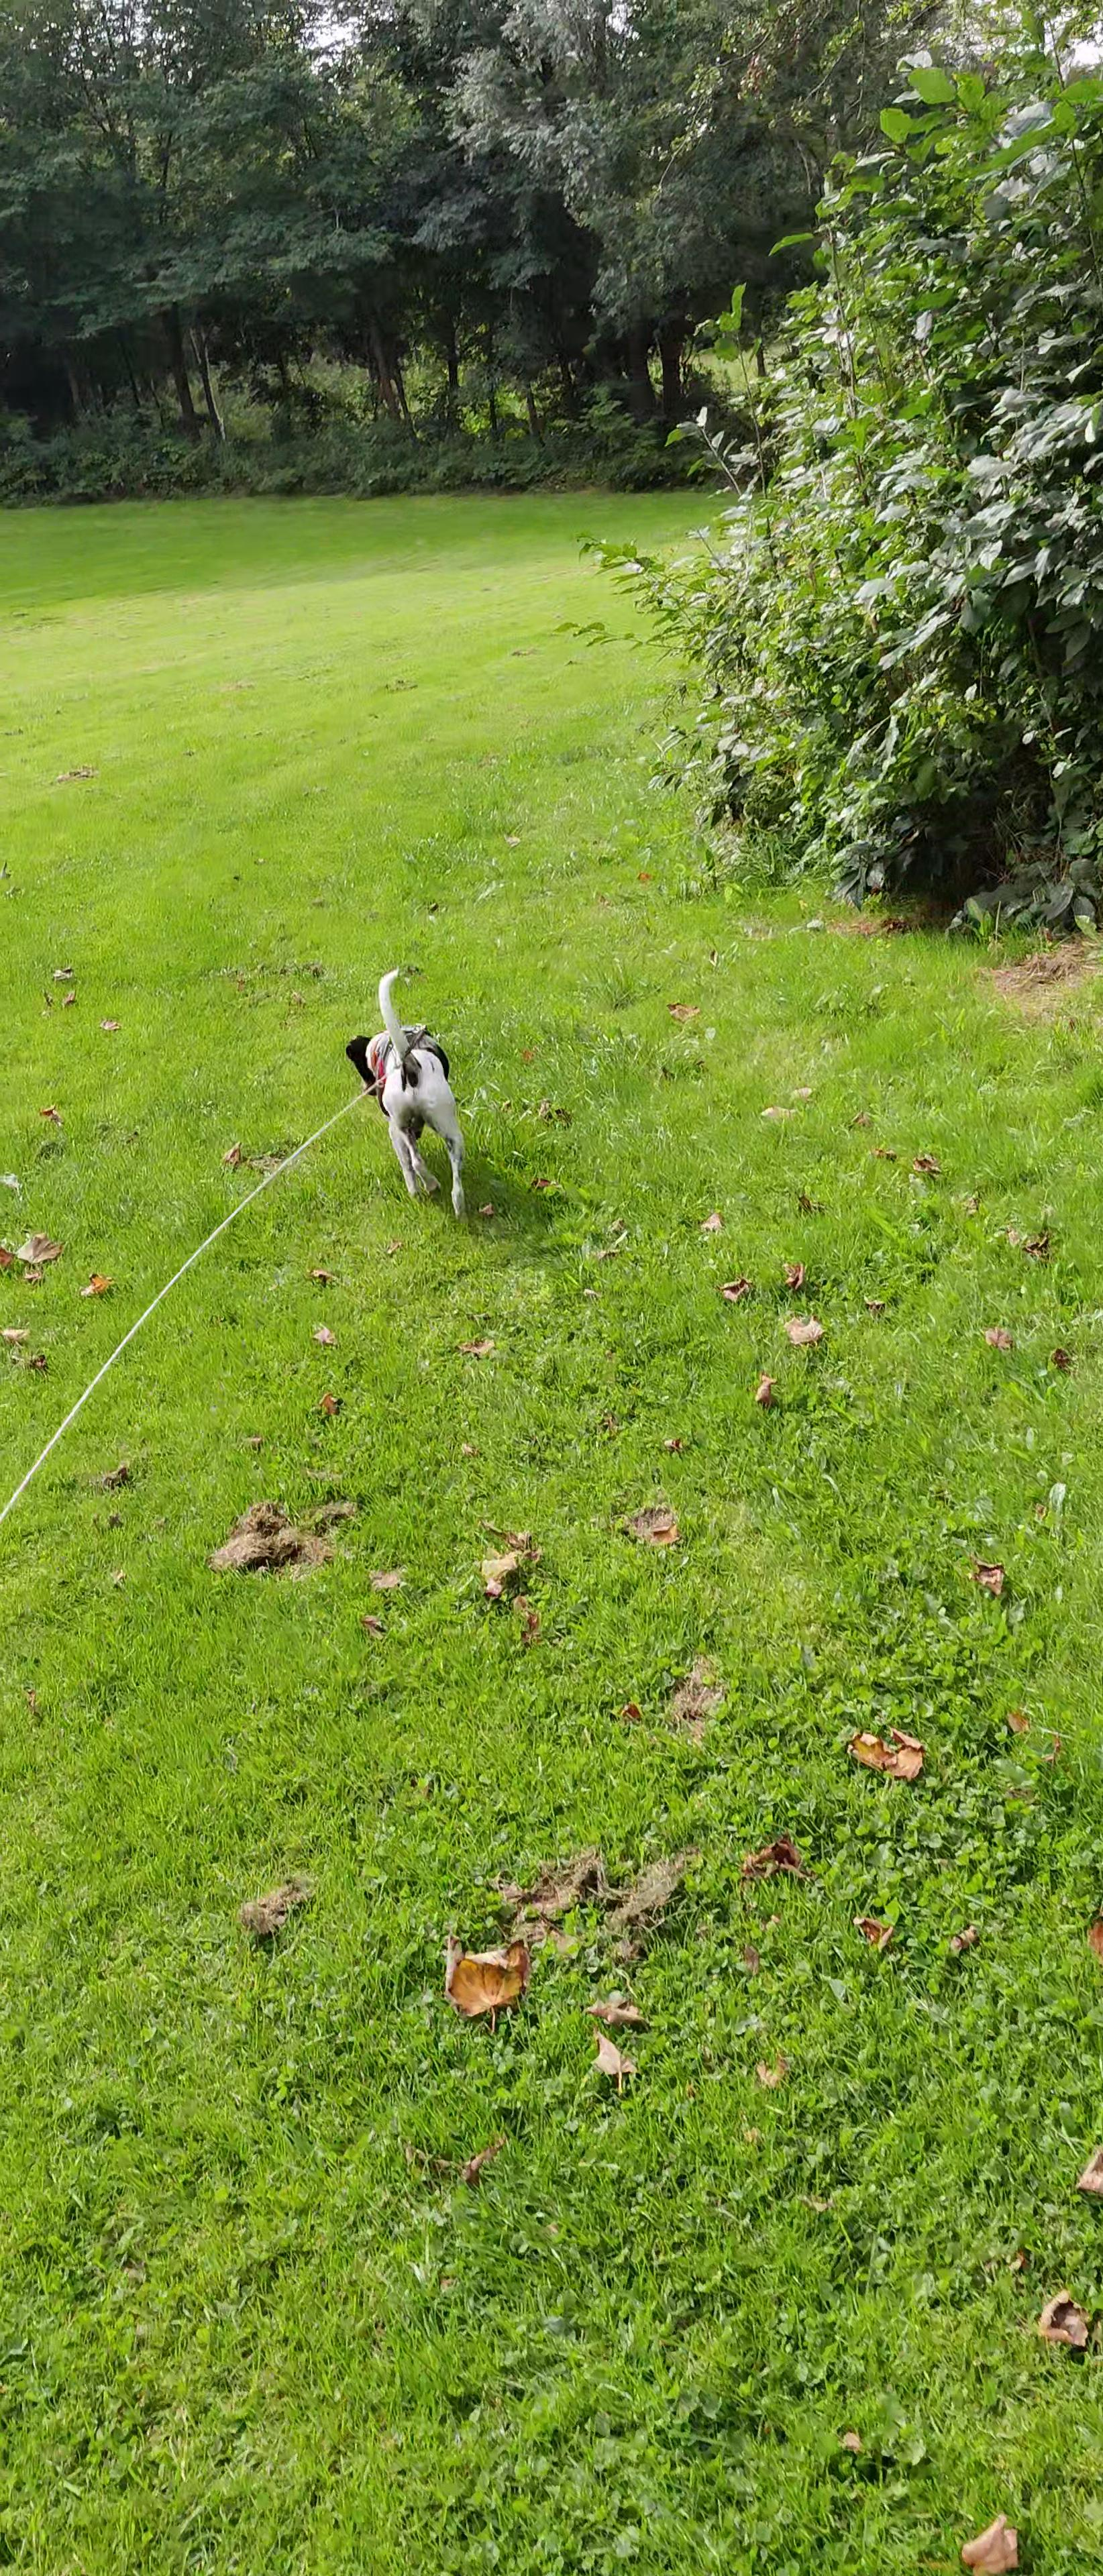Dog: (342, 961, 472, 1226)
